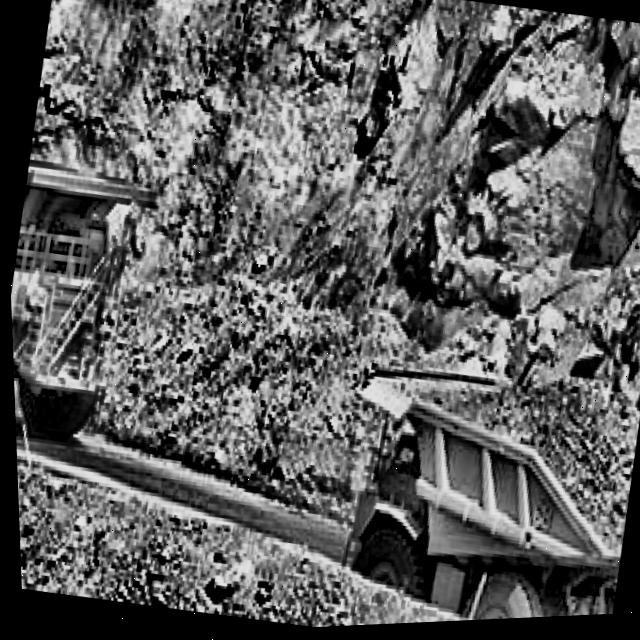dump_truck: (306, 316, 640, 630), (4, 120, 164, 462)
